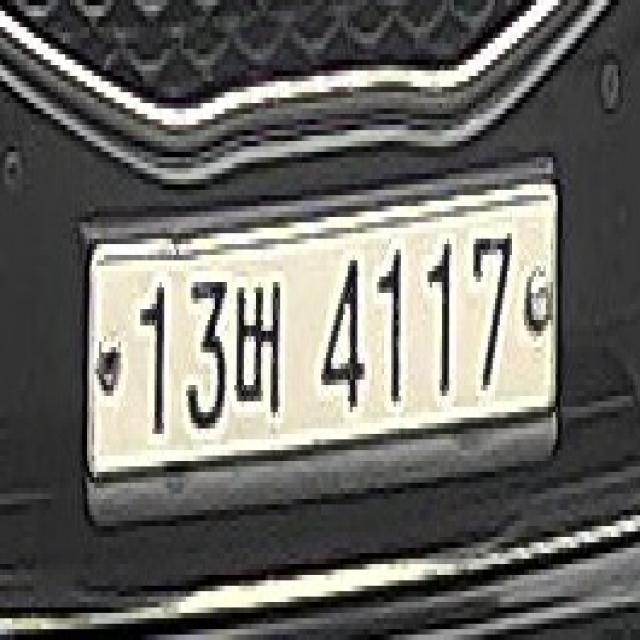1: (374, 233, 416, 423), (135, 282, 179, 456), (421, 222, 462, 402)
3: (183, 271, 230, 445)
4: (319, 249, 369, 434)
7: (466, 212, 522, 418)
beo: (232, 271, 287, 450)
license_plate: (80, 147, 568, 542)
